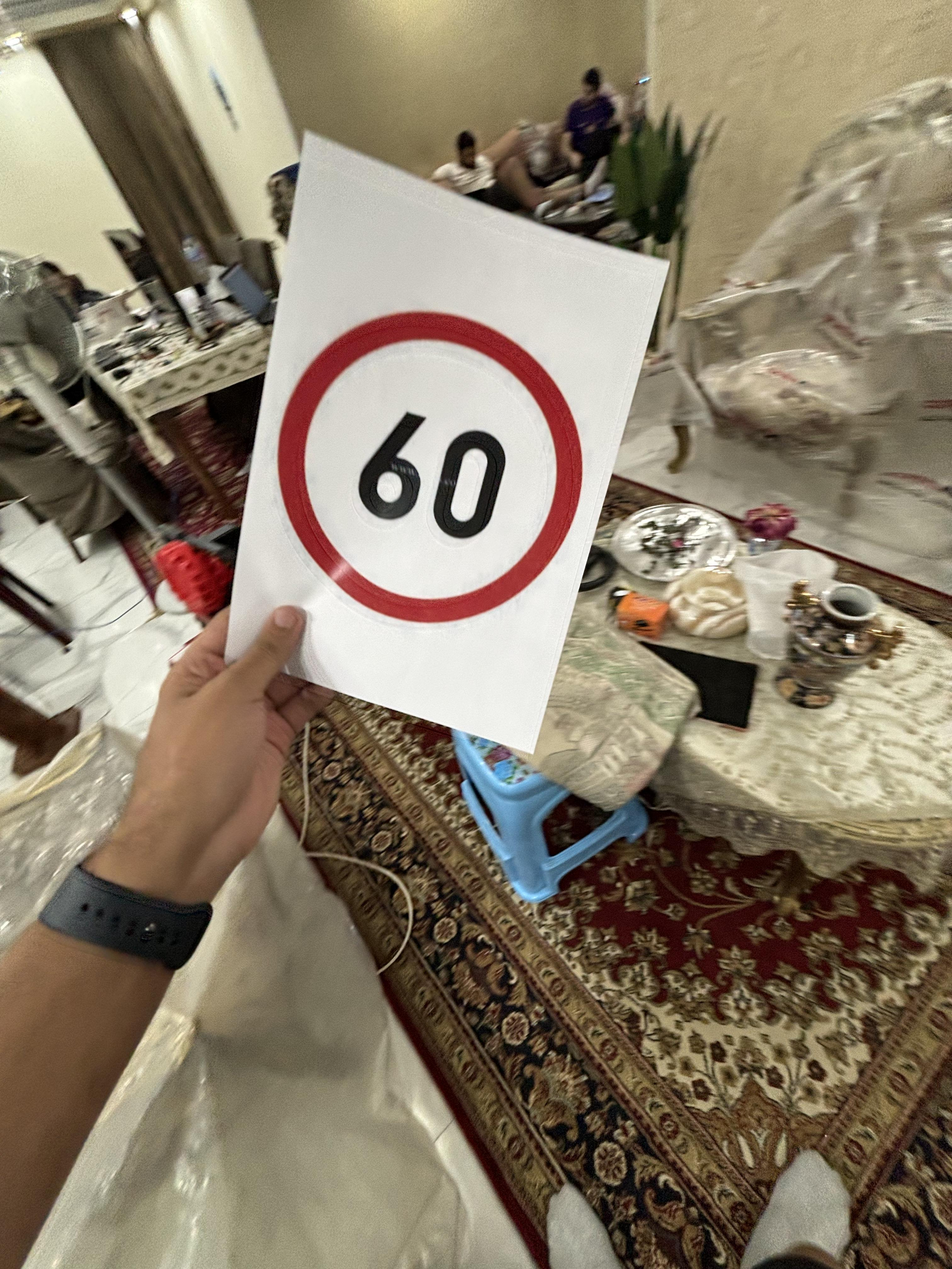60-Speed: (278, 319, 593, 629)
